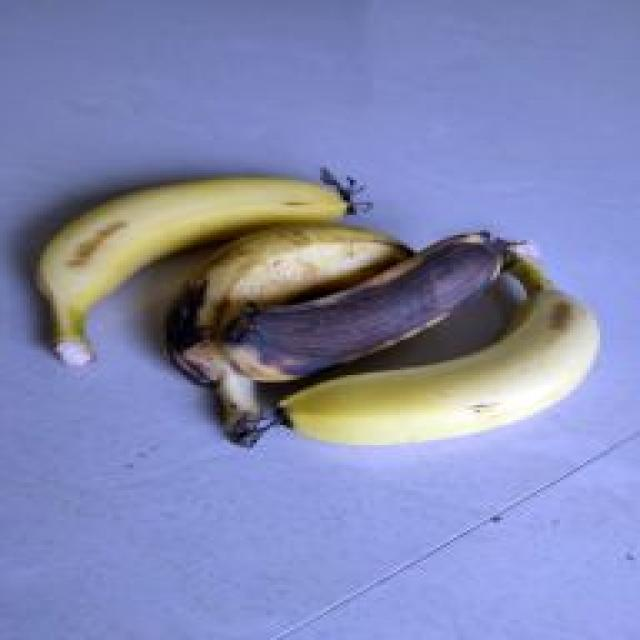Wet: (160, 220, 417, 448), (220, 227, 513, 385)
